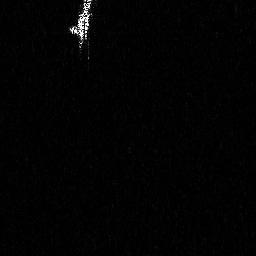ship: (68, 1, 91, 62)
